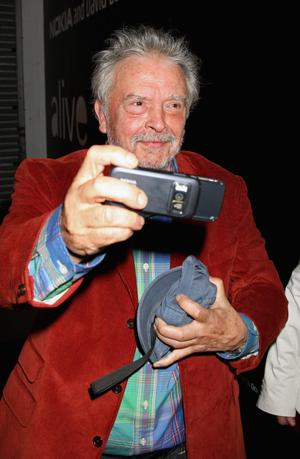person: (2, 26, 288, 459)
